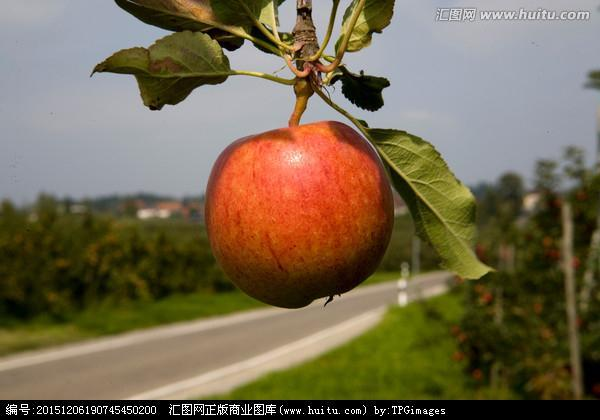apple: (204, 118, 393, 312)
